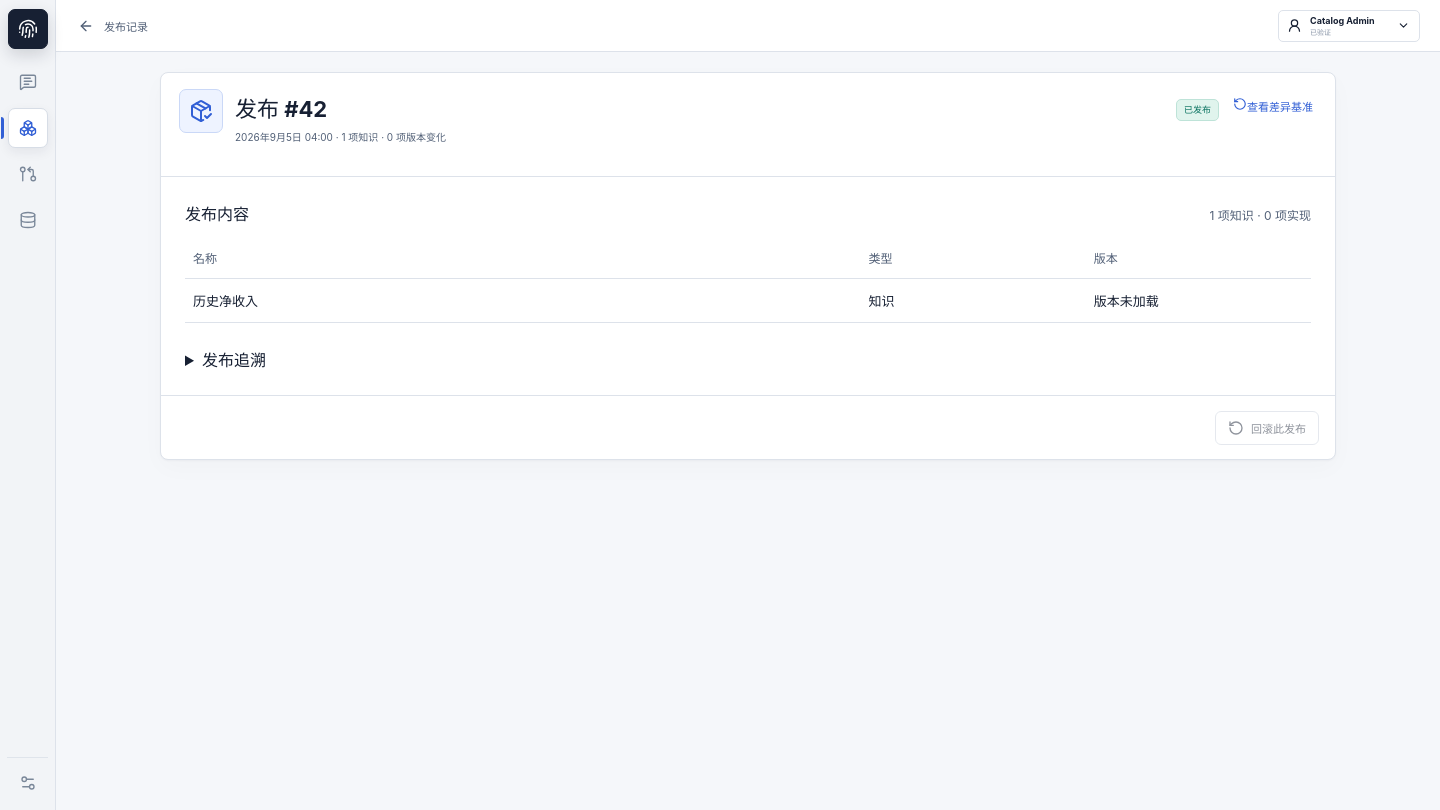
production catalog › uses the pinned revision name once in the release manifest and keeps provenance folded
This screenshot has width=1440, height=810.
Check: the text "历史净收入" is shown once, box left=185, top=278, right=861, bottom=322
Check: the text "sha256:bbbbbbbbbbbbbbbbbbbbbbbbbbbbbbbbbbbbbbbbbbbbbbbbbbbbbbbbbbbbbbbb" is not shown
Click the heading "发布追溯".
click(234, 360)  # box left=202, top=350, right=266, bottom=370
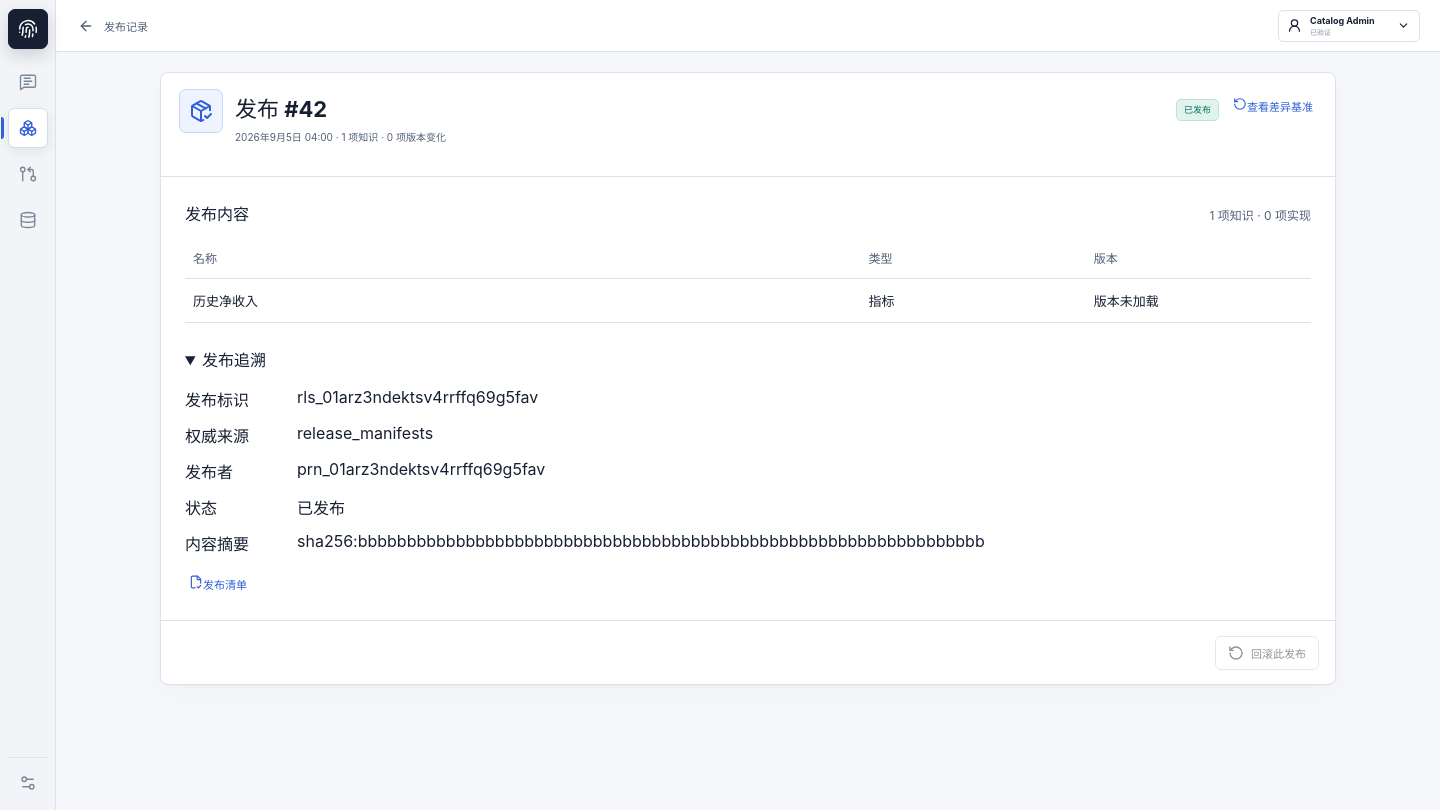
Check: the text "sha256:bbbbbbbbbbbbbbbbbbbbbbbbbbbbbbbbbbbbbbbbbbbbbbbbbbbbbbbbbbbbbbbb" is shown, box left=297, top=531, right=985, bottom=551
